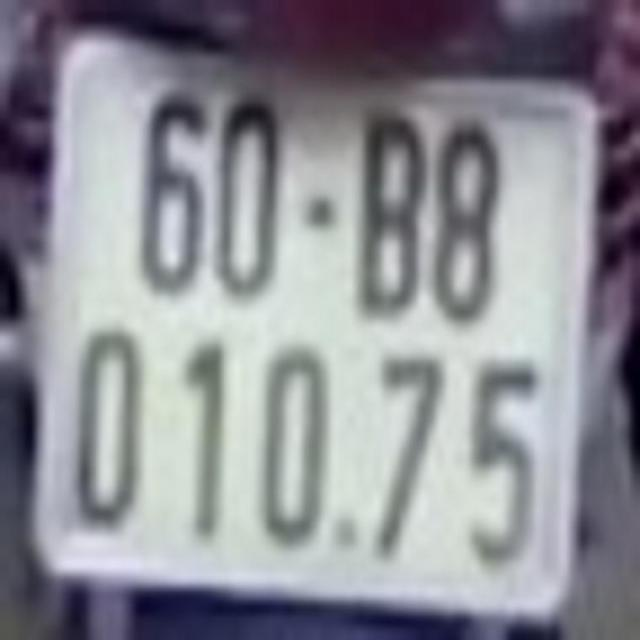0: (254, 339, 324, 551), (215, 96, 282, 302), (74, 324, 138, 522)
1: (180, 344, 223, 536)
5: (460, 362, 540, 565)
6: (138, 94, 204, 294)
7: (366, 347, 446, 567)
8: (427, 118, 496, 324)
B: (357, 114, 420, 320)
